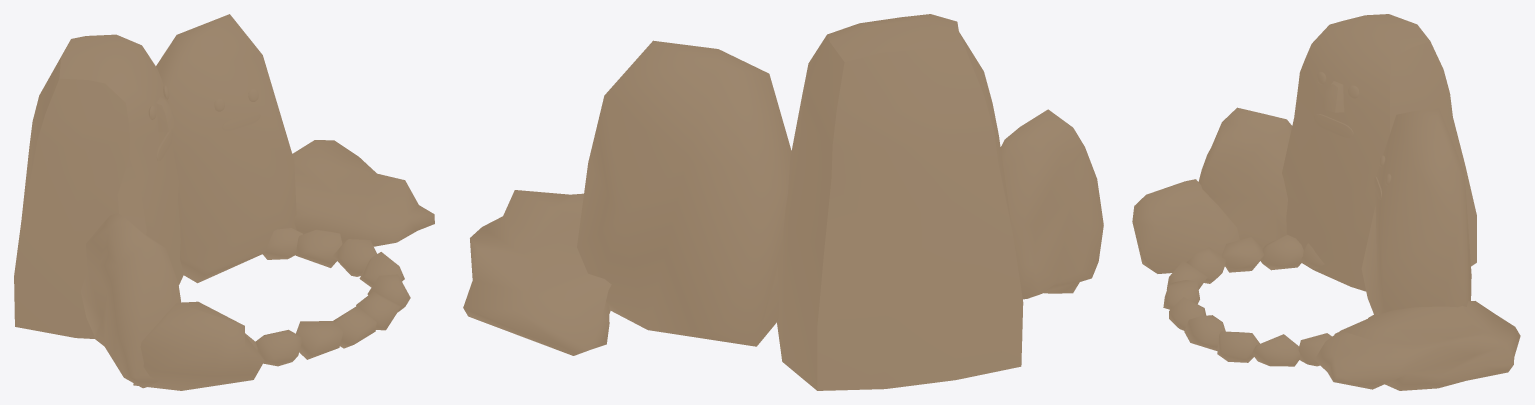
File: Cliff2.fbx
3 views of the same model, side by side, from view 1: azimuth 30°, elevation 25°; view 2: azimuth 150°, elevation 25°; view 3: azimuth 270°, elevation 25° (orthographic). The views are drawn at different scales.
Visible parts, largest first — view 1: bigbody, smallbody, decorock2, decorock1, pebbles, decorock2_1, nose, Capsule; view 2: bigbody, smallbody, decorock1, decorock2; view 3: bigbody, smallbody, decorock1, pebbles, decorock2, decorock2_1, nose, Capsule_2.
Part boxes in pixels (x1,y1,x2,y2): bigbody: (14,34,183,338); smallbody: (156,14,296,283); decorock2: (80,213,181,388); decorock1: (292,140,434,246); pebbles: (245,228,410,366); decorock2_1: (133,301,264,390); nose: (156,97,174,132); Capsule: (222,112,260,130); bigbody: (777,14,1023,390); smallbody: (577,40,791,346); decorock1: (463,190,611,355); decorock2: (1000,109,1103,299); bigbody: (1282,14,1476,291); smallbody: (1361,108,1471,314); decorock1: (1314,301,1520,390); pebbles: (1163,235,1379,366); decorock2: (1198,107,1292,247); decorock2_1: (1132,179,1239,273); nose: (1322,81,1344,112); Capsule_2: (1313,114,1353,137).
Bounding box in the file's own units: 886 × 559 × 792.
